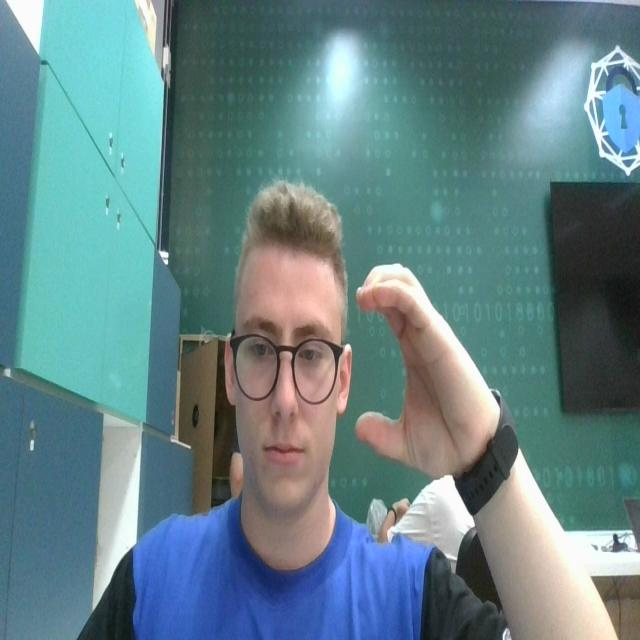C: (349, 262, 494, 468)
